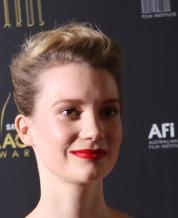face: (58, 98, 119, 161)
